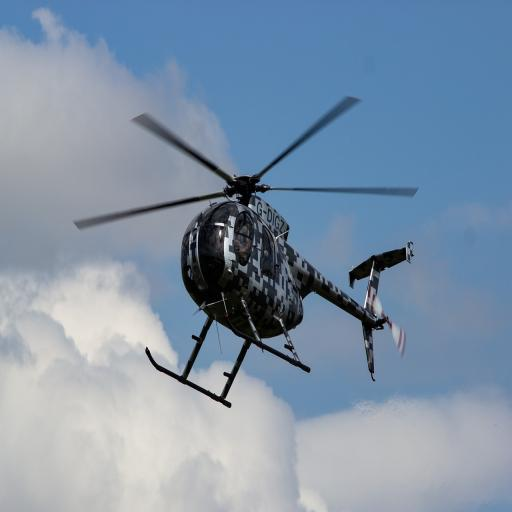helicopter: (71, 89, 424, 416)
